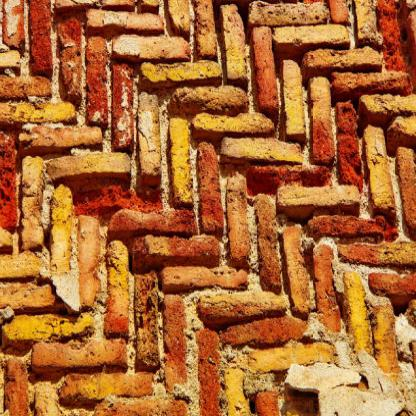Sedimentary_Sandstone: (70, 207, 105, 314), (222, 168, 260, 262), (15, 111, 103, 151), (98, 236, 130, 343), (166, 114, 200, 214), (362, 117, 395, 220), (162, 256, 251, 293), (307, 246, 344, 330), (82, 28, 112, 130), (274, 181, 362, 215), (307, 76, 339, 166), (117, 28, 190, 63), (220, 8, 252, 85), (348, 230, 413, 265), (272, 20, 348, 47)
